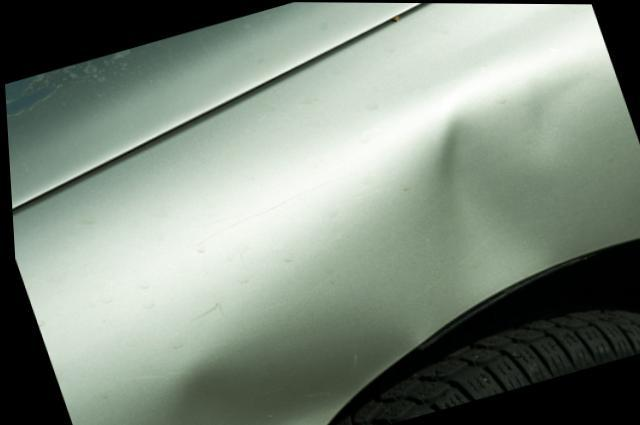dent: (124, 66, 628, 425)
